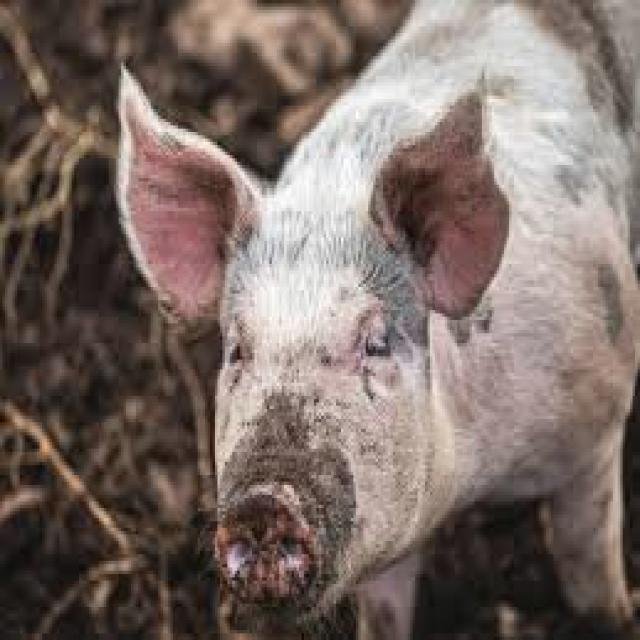pig: (116, 0, 638, 637)
